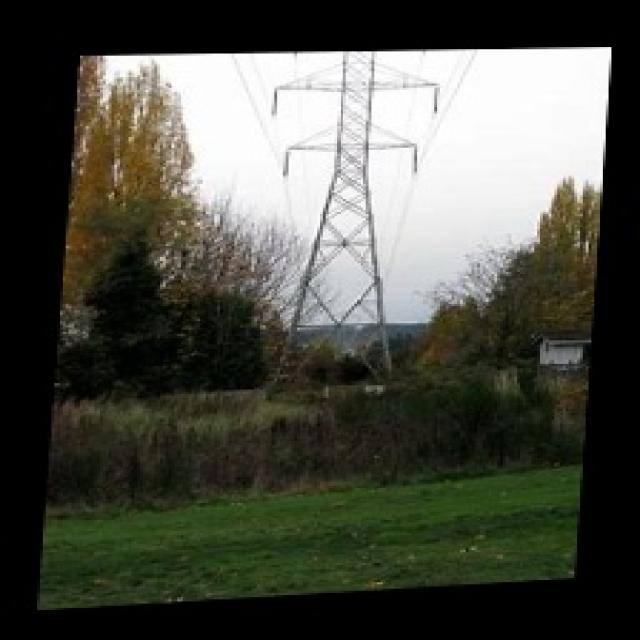utility poles: (202, 240, 328, 387), (348, 295, 491, 406)
